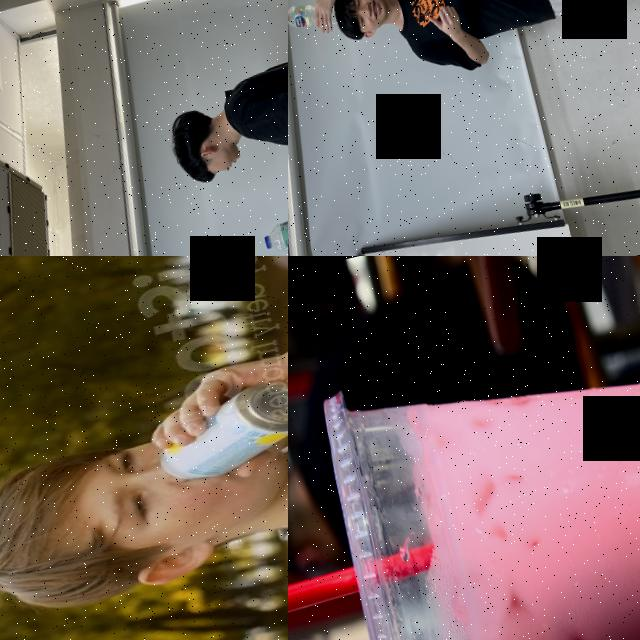bottle: (288, 0, 338, 37), (257, 204, 288, 256)
can: (146, 372, 288, 489)
cup: (312, 296, 640, 640)
